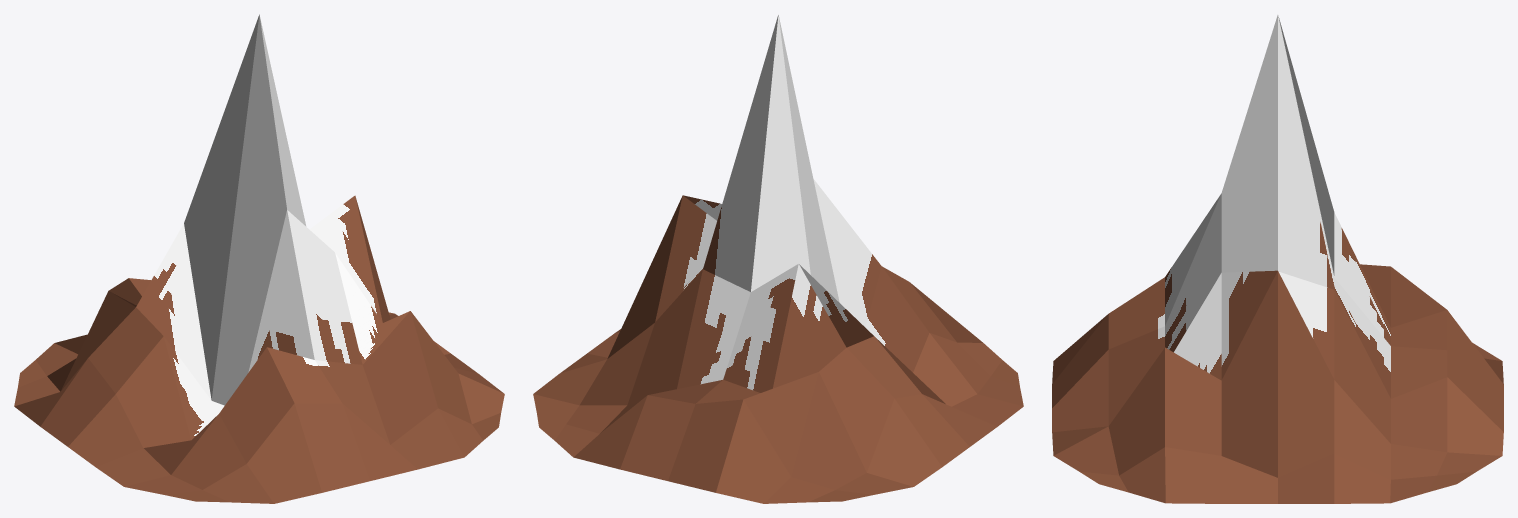
Rendered from Montaña.fbx.
3 renders of one model, left to right at view 1: azimuth 30°, elevation 25°; view 2: azimuth 150°, elevation 25°; view 3: azimuth 270°, elevation 25°, orthographic. The views are drawn at different scales.
Visible parts, largest first — view 1: Plane; view 2: Plane; view 3: Plane.
Part boxes in pixels (x1,y1,x2,y2): Plane: (14, 14, 504, 503); Plane: (533, 14, 1023, 503); Plane: (1052, 15, 1503, 503).
Bounding box in the file's own units: 2000 × 1927 × 2000.
